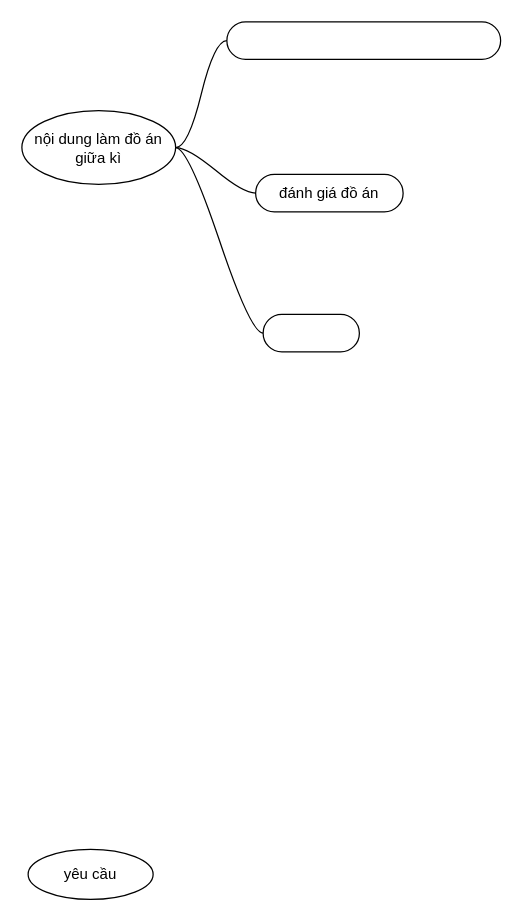
This 523x921 diagram has some shape labels left out. Each missing label, with the centre of its shape:
cải tiến: the point at 310,332
trình bày dự án trực quan thực tế: the point at 363,40
